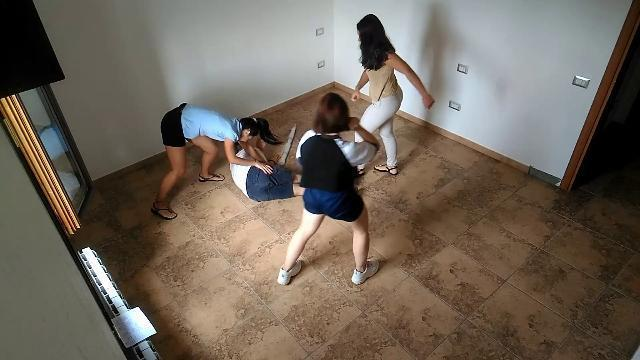non-violence: (274, 90, 384, 290)
violence: (148, 16, 436, 222)
